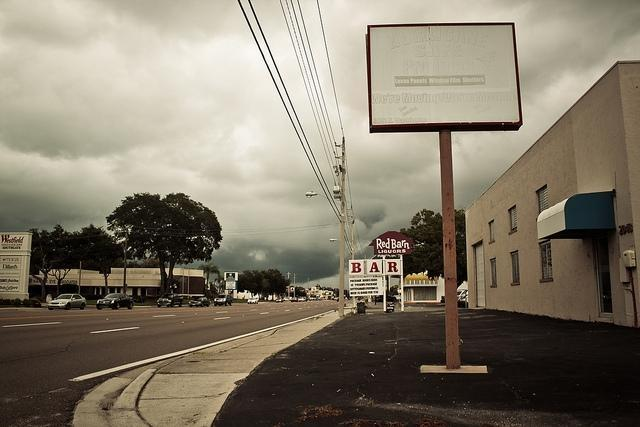car: (97, 292, 134, 310), (48, 294, 87, 311), (214, 294, 234, 306), (189, 297, 210, 307), (248, 298, 258, 304), (298, 296, 307, 302), (290, 296, 297, 302), (276, 299, 284, 303)
